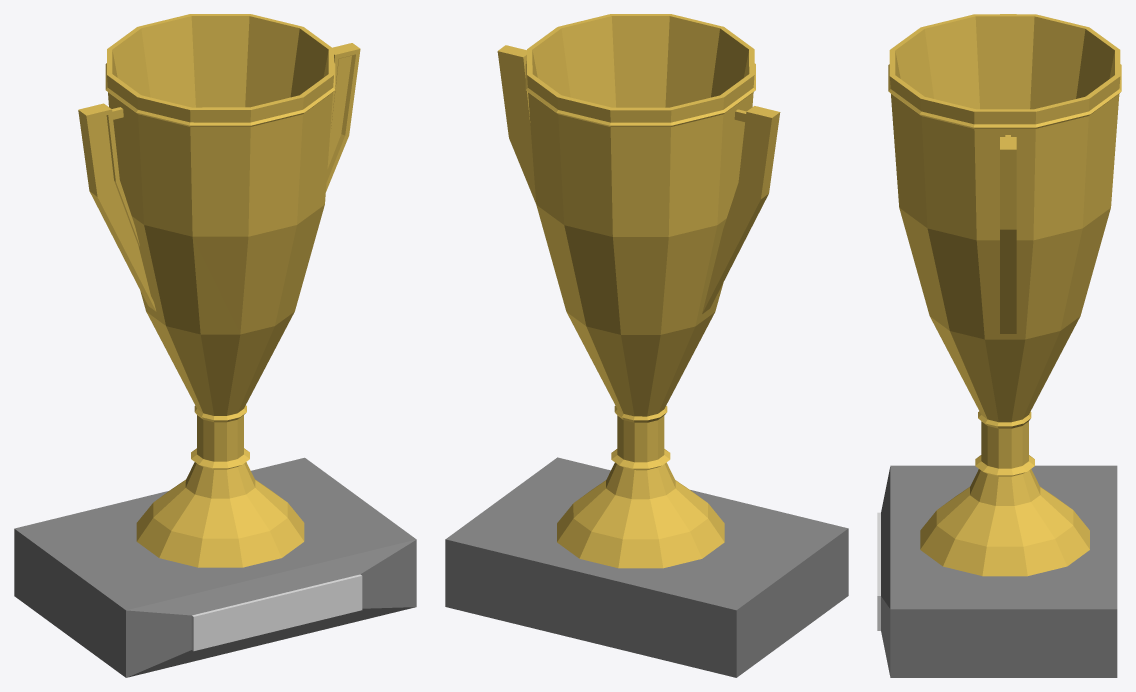
The model's file is Bronze Trophy.fbx.
3 views of the same model, side by side, from view 1: azimuth 30°, elevation 25°; view 2: azimuth 150°, elevation 25°; view 3: azimuth 270°, elevation 25° (orthographic).
Parts seen in each view (by area): view 1: Bronze Trophy; view 2: Bronze Trophy; view 3: Bronze Trophy.
Boxes of the visible parts, <box> form: Bronze Trophy: <box>14,14,416,677</box>; Bronze Trophy: <box>445,14,848,677</box>; Bronze Trophy: <box>877,14,1121,677</box>.
Size of the model in its own units: 33.05 by 58.46 by 23.73.
